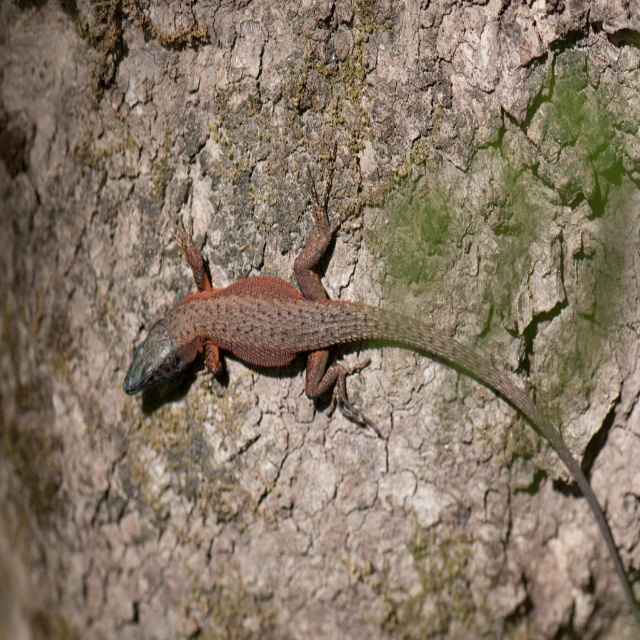Lizard: (126, 160, 636, 616)
